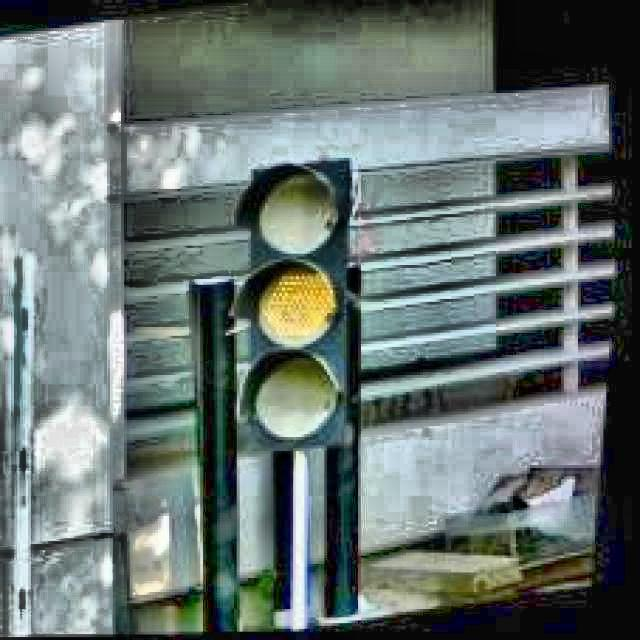yellow: (245, 159, 359, 449)
